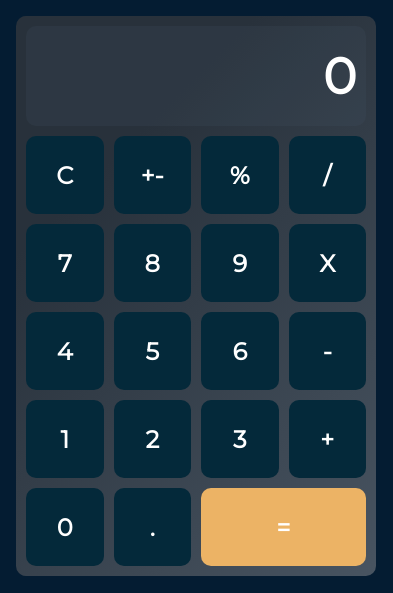
check if C is working
This screenshot has width=393, height=593.
Click the button "1" at coordinates (65, 439), box top-left (26, 400), bottom-right (104, 478)
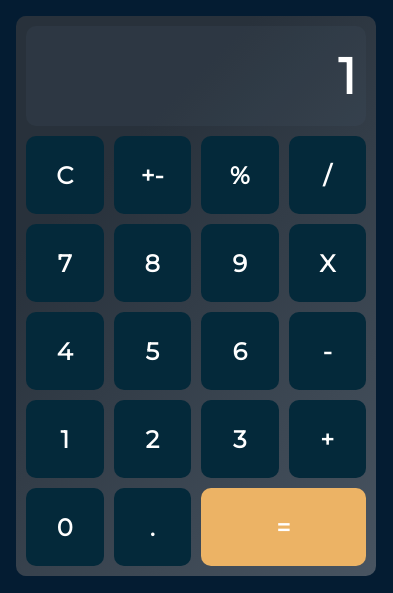
Click the button "C" at coordinates (65, 175), box top-left (26, 136), bottom-right (104, 214)
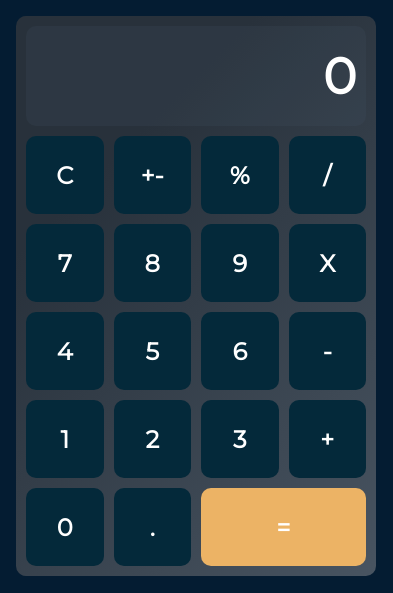
Check: the text titled "screen" reads "0", box top-left (323, 46), bottom-right (356, 106)
